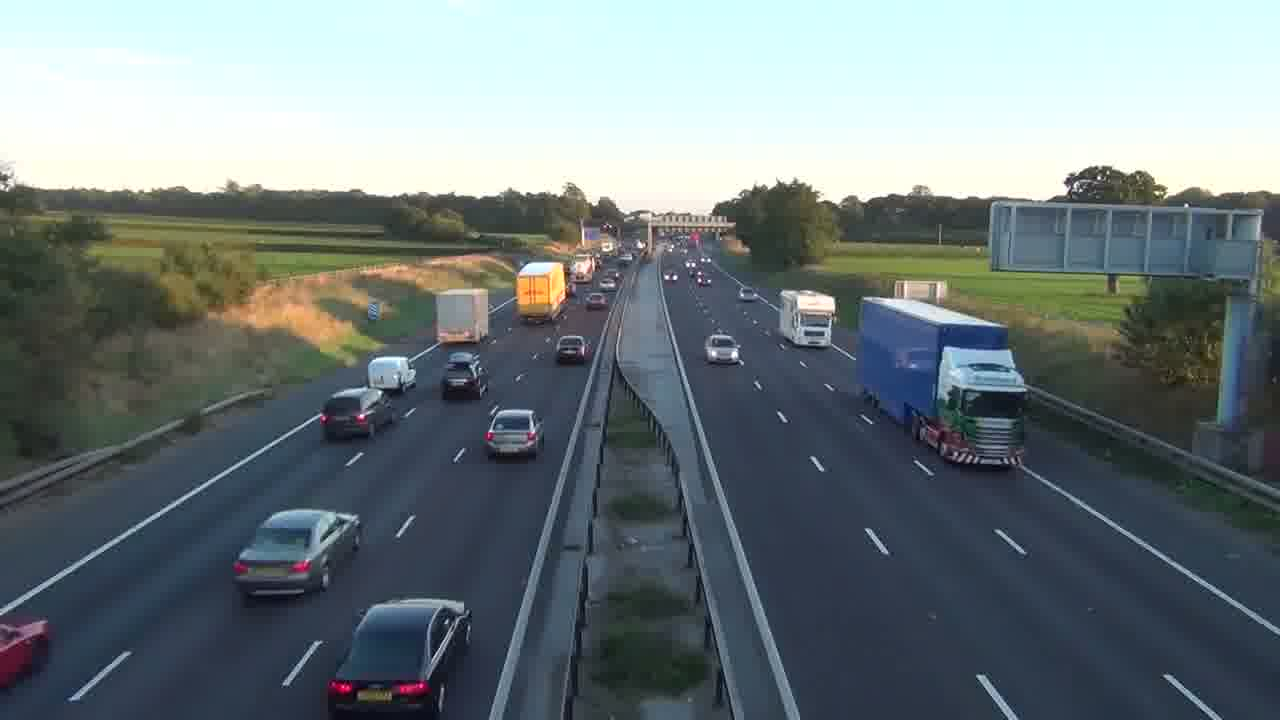car: (325, 596, 472, 717), (232, 507, 362, 599), (319, 387, 395, 440), (483, 408, 546, 461), (441, 362, 485, 400), (704, 333, 743, 366), (555, 335, 589, 365)
truck: (856, 295, 1027, 469), (0, 613, 51, 690), (779, 288, 836, 349), (514, 261, 569, 322), (433, 289, 490, 347), (367, 356, 417, 394)
